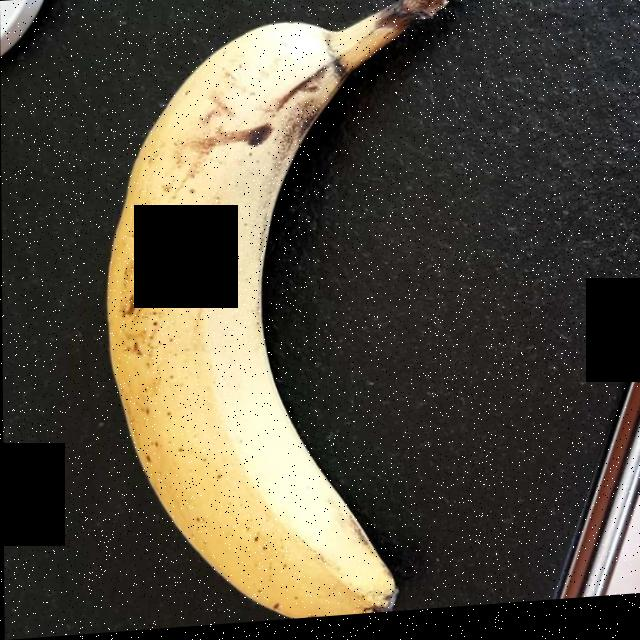banana: (127, 0, 466, 610)
